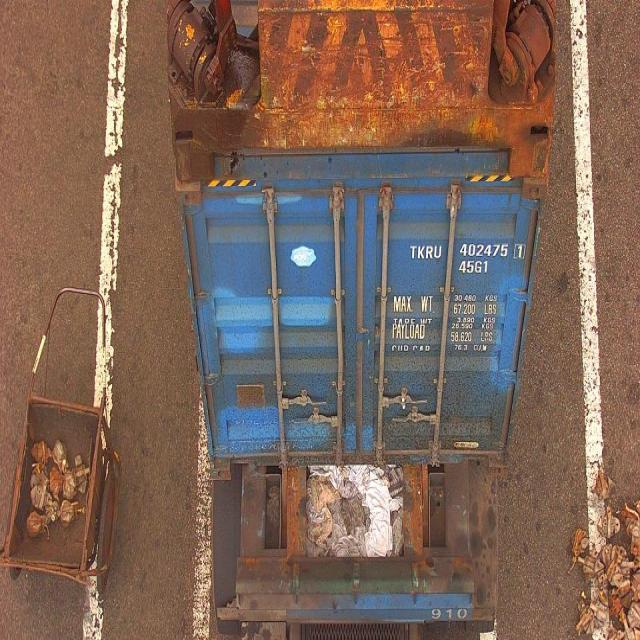ISO: (457, 260, 485, 276)
container_number: (408, 242, 520, 260)
